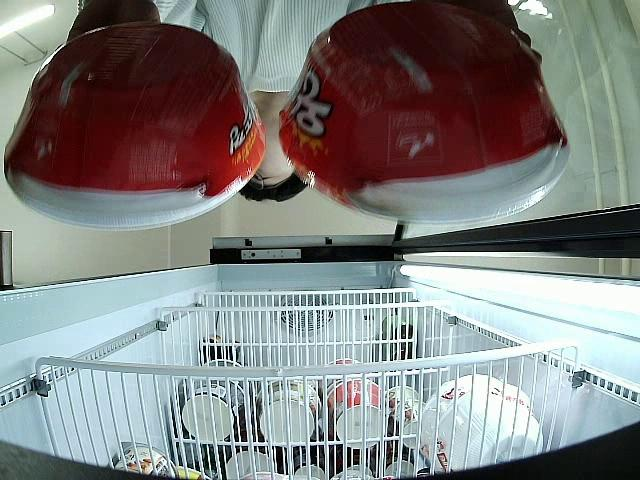10_wangTtukkeong: (279, 4, 571, 225), (4, 24, 267, 230)
